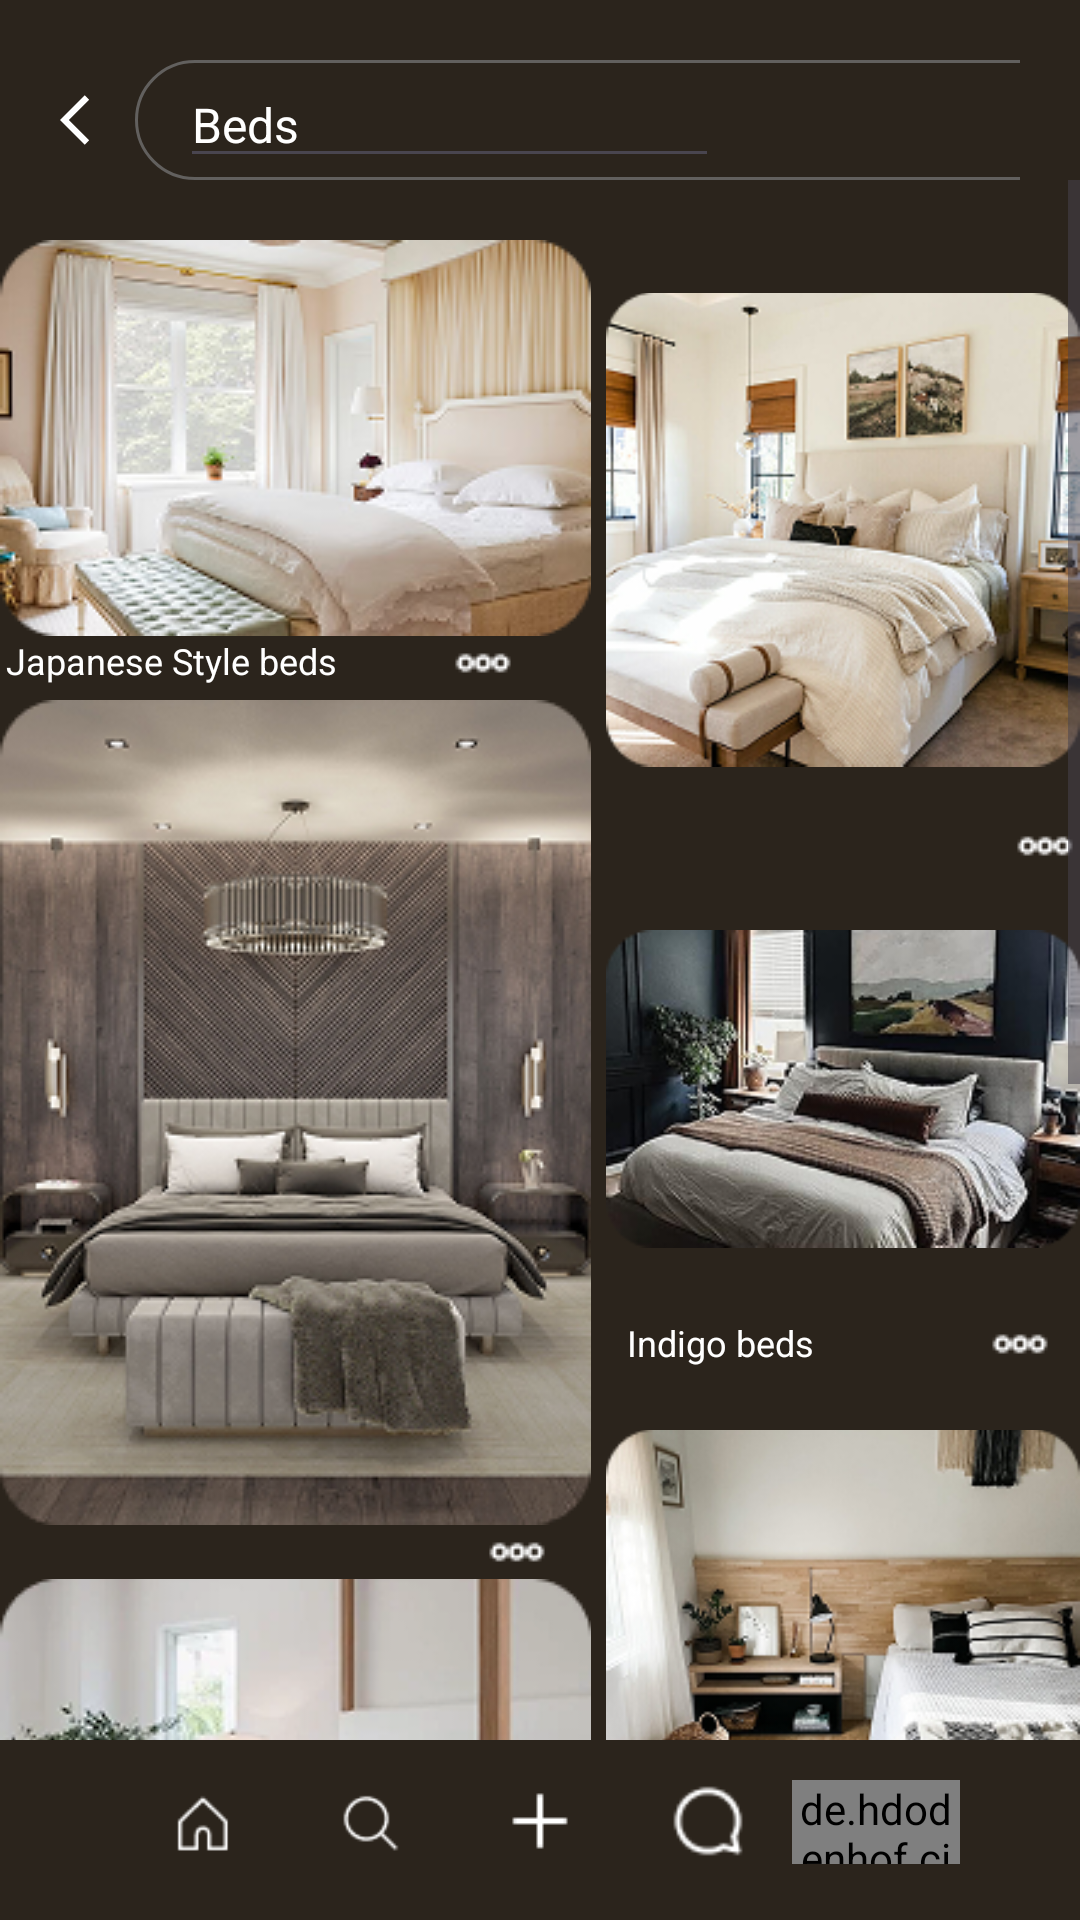

Named icons in this screenshot (1080px x 1920px) and their bounding boxes, region(x1, y1, x2, y2):
back arrow: region(60, 95, 89, 145)
comment: region(673, 1786, 743, 1856)
plus: region(512, 1793, 568, 1849)
search: region(343, 1796, 398, 1851)
